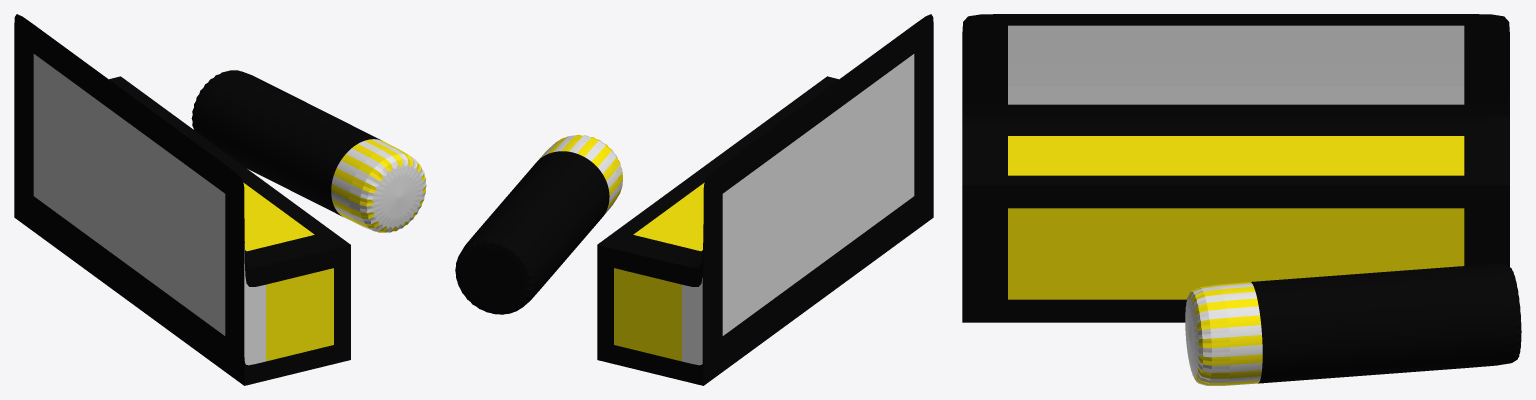
Rendered from RatPoision.fbx.
3 renders of one model, left to right at view 1: azimuth 30°, elevation 25°; view 2: azimuth 150°, elevation 25°; view 3: azimuth 270°, elevation 25°, orthographic. The views are drawn at different scales.
Visible parts, largest first — view 1: Cube, Cylinder; view 2: Cube, Cylinder; view 3: Cube, Cylinder.
Boxes of the visible parts, x1,y1,x2,y2 form: Cube: (14, 14, 350, 385); Cylinder: (191, 70, 426, 232); Cube: (597, 14, 933, 385); Cylinder: (455, 134, 622, 314); Cube: (962, 14, 1509, 322); Cylinder: (1185, 264, 1521, 385).
Bounding box in the file's own units: 463 × 322 × 662.
